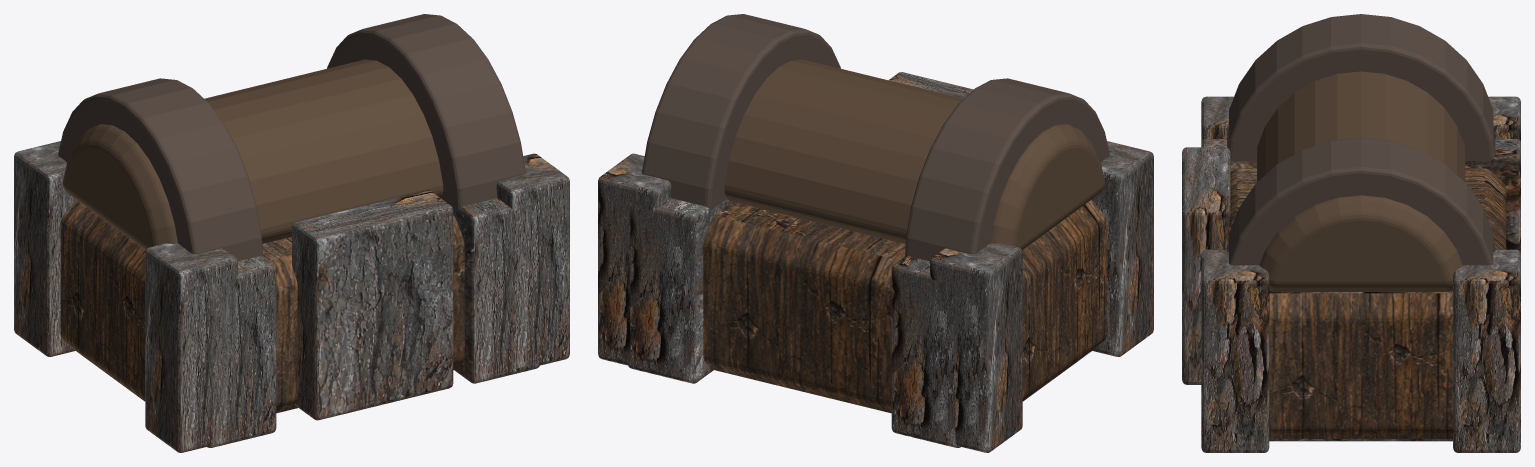
The model's file is jewel-box-v01.glb.
3 views of the same model, side by side, from view 1: azimuth 30°, elevation 25°; view 2: azimuth 150°, elevation 25°; view 3: azimuth 270°, elevation 25° (orthographic). The views are drawn at different scales.
Visible parts, largest first — view 1: jewel-box; view 2: jewel-box; view 3: jewel-box.
Boxes of the visible parts, x1,y1,x2,y2 form: jewel-box: (14, 14, 569, 452); jewel-box: (598, 14, 1153, 452); jewel-box: (1182, 14, 1520, 452).
Bounding box in the file's own units: 0.45 × 0.3125 × 0.35.
Materials: 2 (2 with a texture image).
